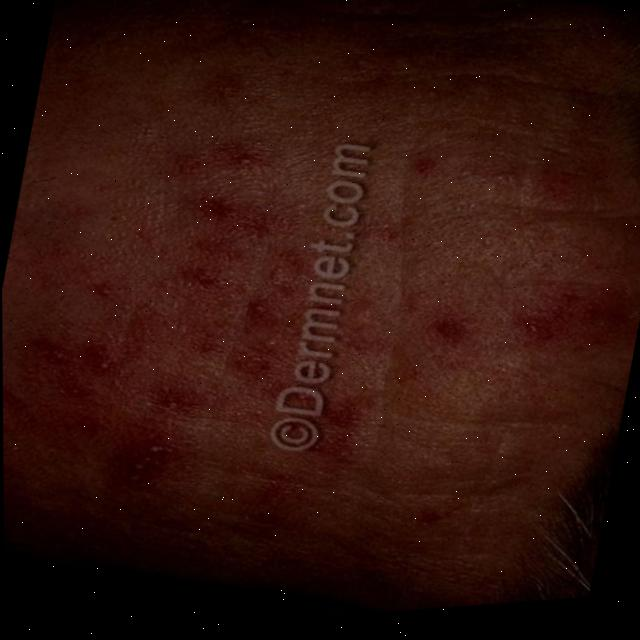Rosacea: (0, 15, 608, 590)
